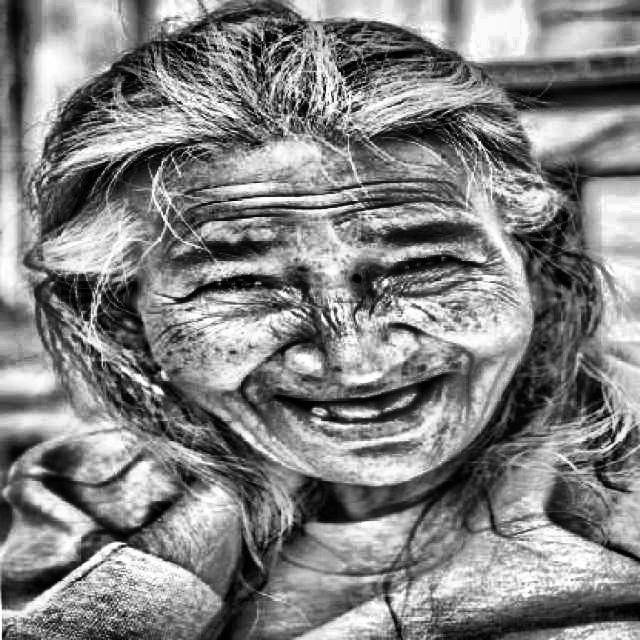happy: (51, 54, 627, 486)
